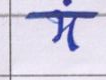anusvara: (64, 1, 71, 5)
